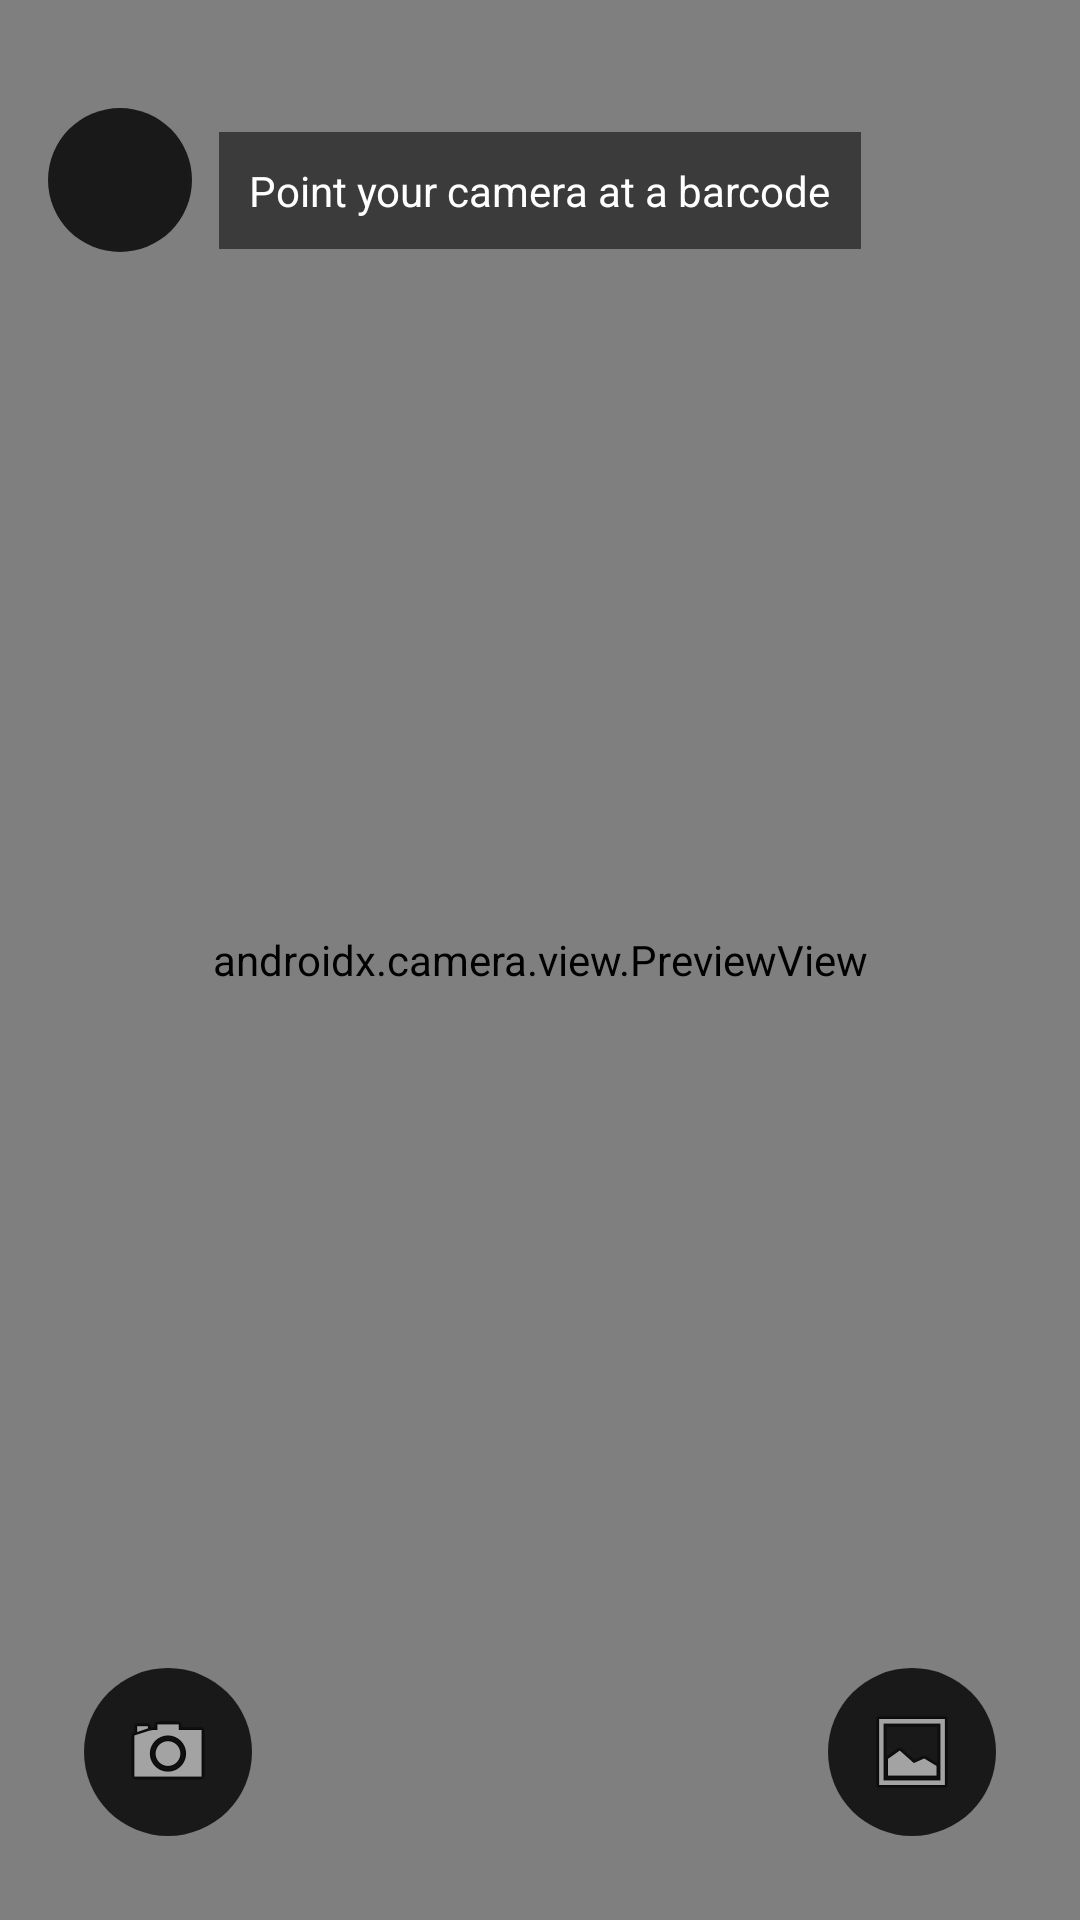

Where icons sit on this 1080×1920 app screen, as (x1, y1, x2, y2):
Pick image from gallery: (828, 1668, 996, 1836)
